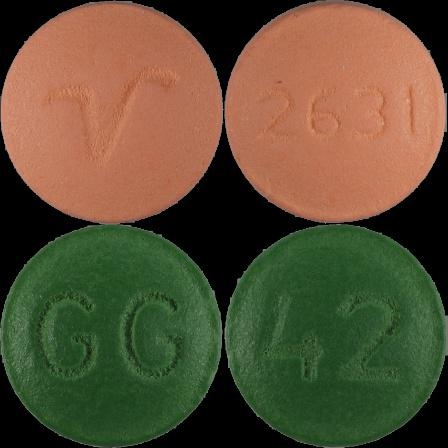51655-442: (0, 0, 224, 224)
